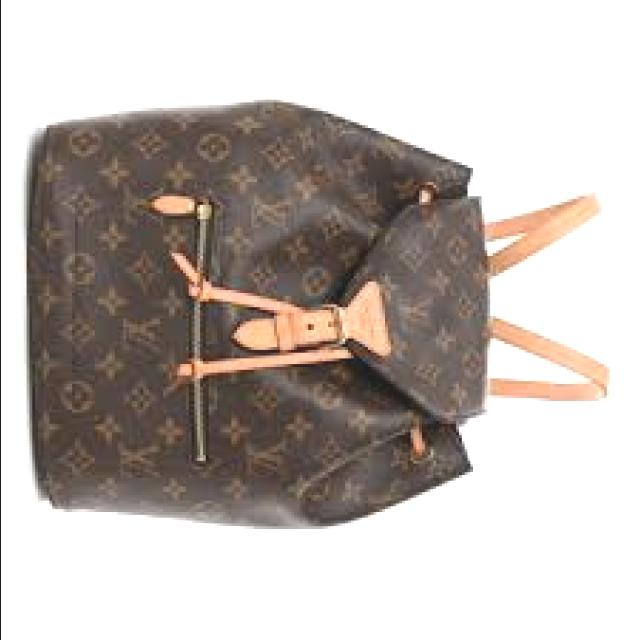backpack: (30, 98, 613, 530)
